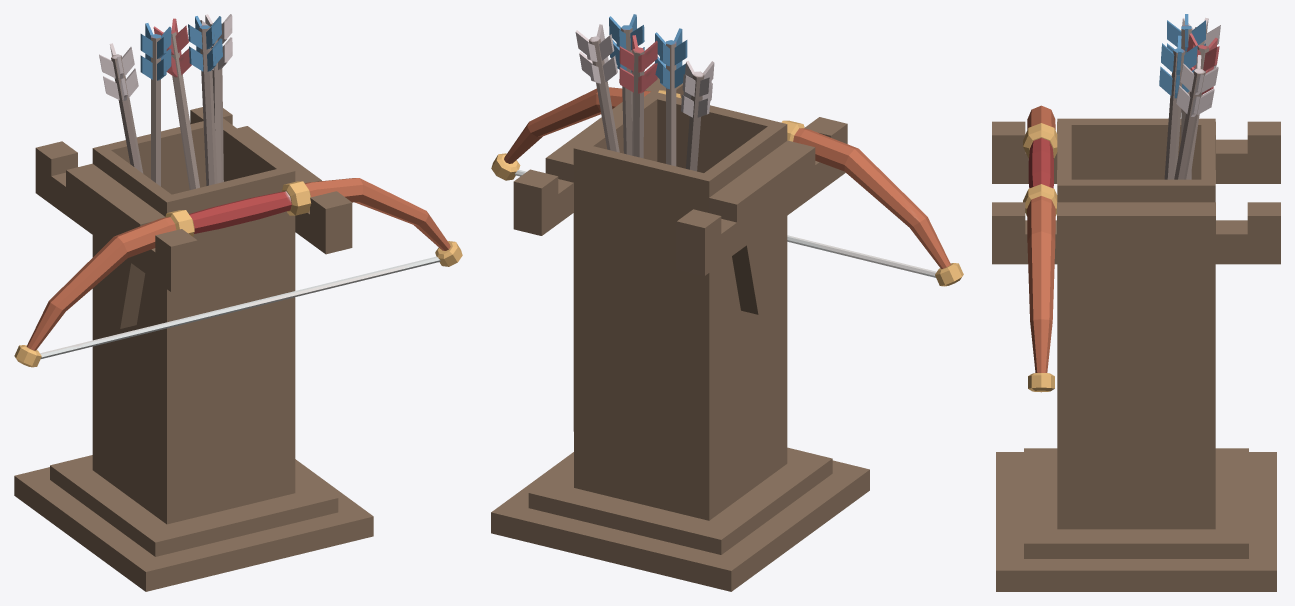
The model's file is Bow_Stand.fbx.
3 views of the same model, side by side, from view 1: azimuth 30°, elevation 25°; view 2: azimuth 150°, elevation 25°; view 3: azimuth 270°, elevation 25° (orthographic). The views are drawn at different scales.
Parts seen in each view (by area): view 1: Bow_Stand_Geo; view 2: Bow_Stand_Geo; view 3: Bow_Stand_Geo.
Boxes of the visible parts, x1=… form: Bow_Stand_Geo: x1=14, y1=14, x2=462, y2=591; Bow_Stand_Geo: x1=491, y1=14, x2=963, y2=591; Bow_Stand_Geo: x1=992, y1=14, x2=1280, y2=591.
Size of the model in its own units: 49.86 by 50.67 by 26.27.
